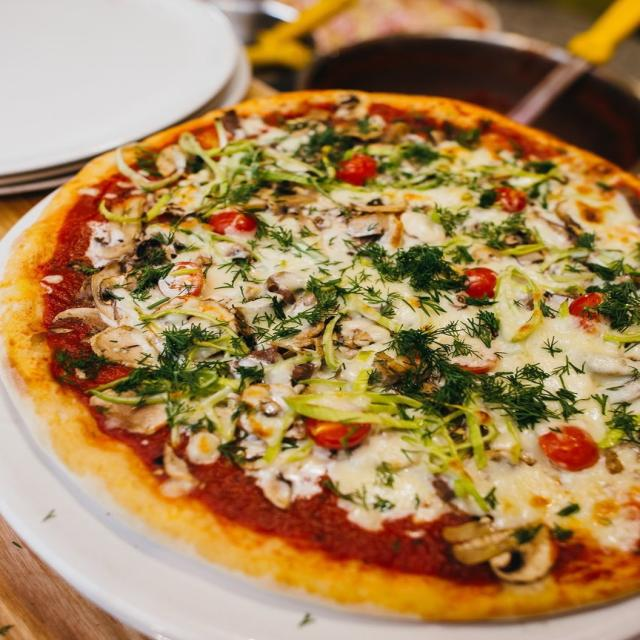mushrooms: (442, 511, 556, 584), (91, 391, 174, 438), (89, 326, 161, 372), (240, 381, 296, 432), (105, 196, 144, 264), (86, 262, 124, 319), (265, 271, 296, 307), (54, 308, 100, 328), (351, 200, 408, 213)
pizza: (0, 90, 640, 626)
tomatoes: (534, 425, 602, 473), (305, 414, 370, 453), (158, 262, 204, 300), (333, 154, 378, 187), (564, 291, 610, 322), (463, 268, 499, 301), (209, 211, 258, 233), (452, 352, 497, 374), (494, 188, 526, 213)
